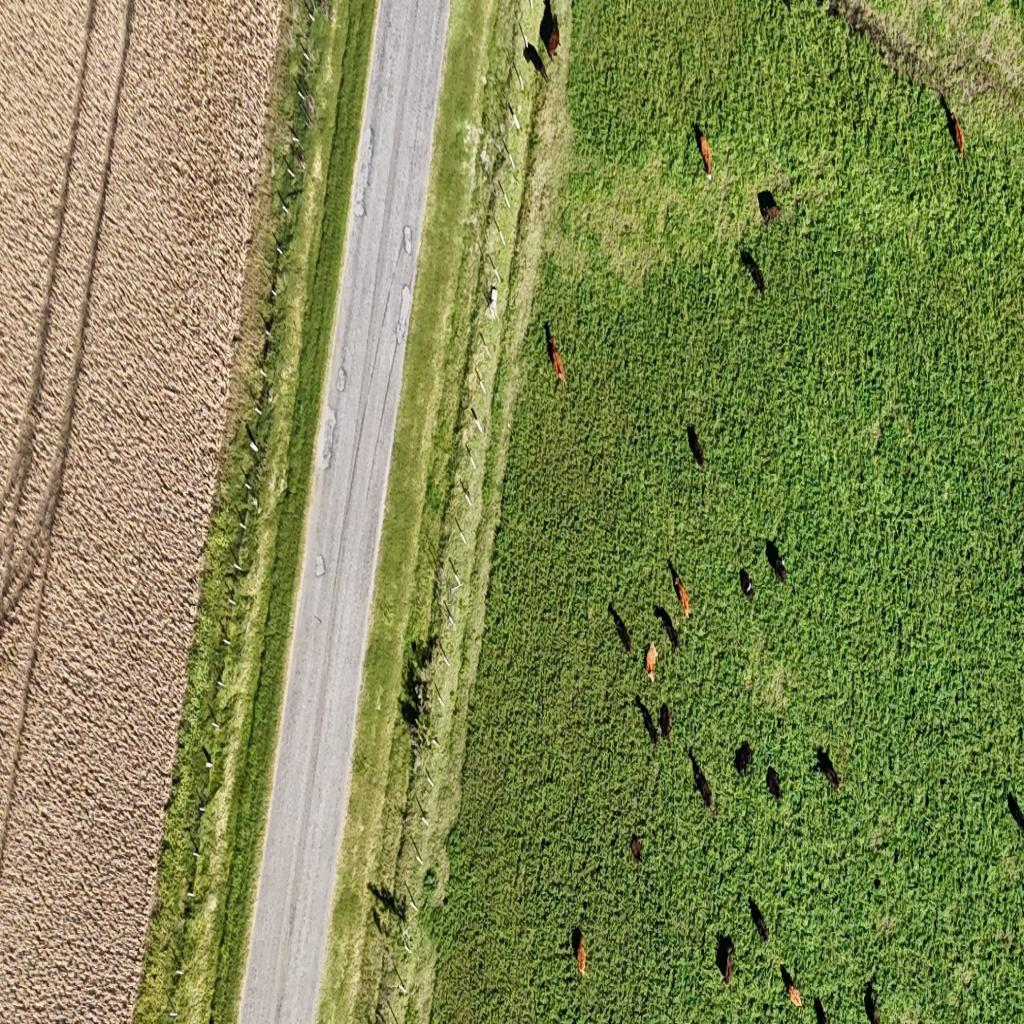cow: (668, 559, 692, 623), (689, 750, 712, 814), (740, 248, 766, 296), (546, 324, 566, 385), (692, 122, 712, 180), (522, 37, 548, 81), (779, 964, 803, 1010), (816, 746, 840, 791), (636, 695, 658, 743), (716, 933, 735, 987), (766, 540, 788, 586), (542, 6, 560, 62), (748, 896, 769, 942), (757, 189, 782, 225), (1005, 789, 1024, 836), (613, 608, 632, 654), (948, 109, 965, 158), (688, 426, 706, 471), (572, 926, 587, 976), (863, 980, 880, 1024), (734, 740, 753, 777), (765, 765, 783, 804), (665, 611, 681, 650), (644, 641, 658, 684), (813, 994, 830, 1024), (739, 568, 754, 602), (659, 702, 671, 741), (667, 557, 680, 591), (631, 833, 643, 863)
